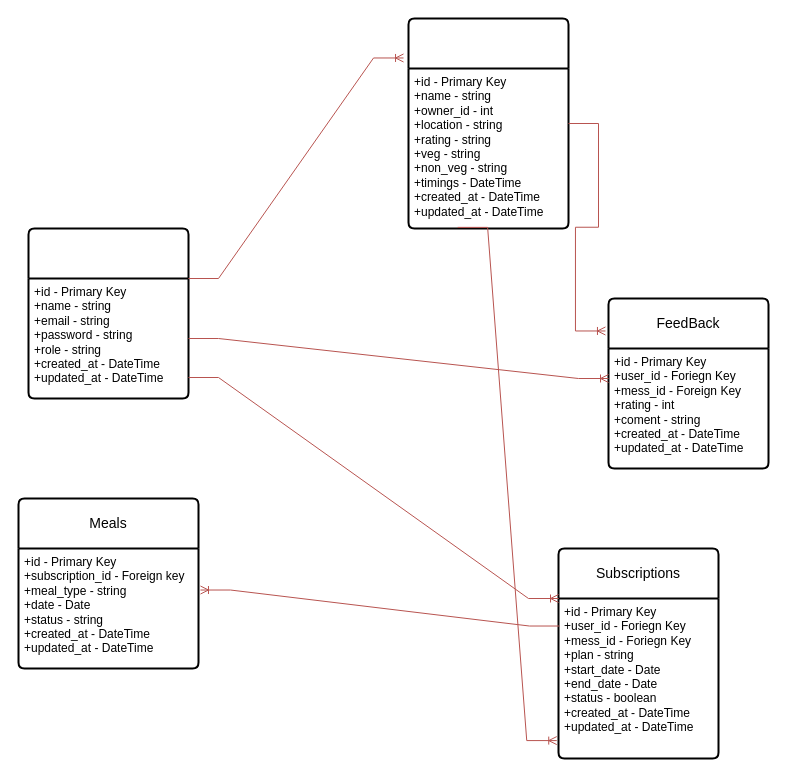
The diagram is 786 pixels wide and 776 high, and some of its shapes have lost their labels. The box of each missing label's shape, as (x1, y1, x2, y2) in pixels:
Mess: (407, 17, 569, 229)
Users: (27, 227, 189, 399)
